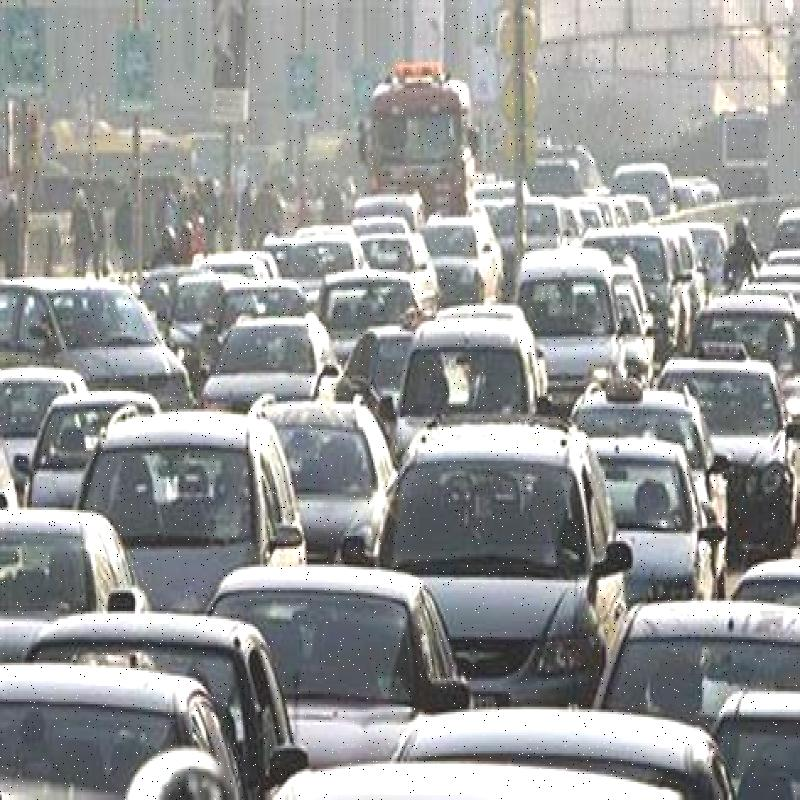car: (411, 427, 590, 664), (102, 421, 310, 602), (237, 560, 387, 800), (618, 590, 781, 800), (670, 347, 800, 497), (411, 316, 543, 438), (526, 251, 618, 404), (324, 268, 421, 358), (224, 303, 322, 391), (432, 212, 500, 305)
